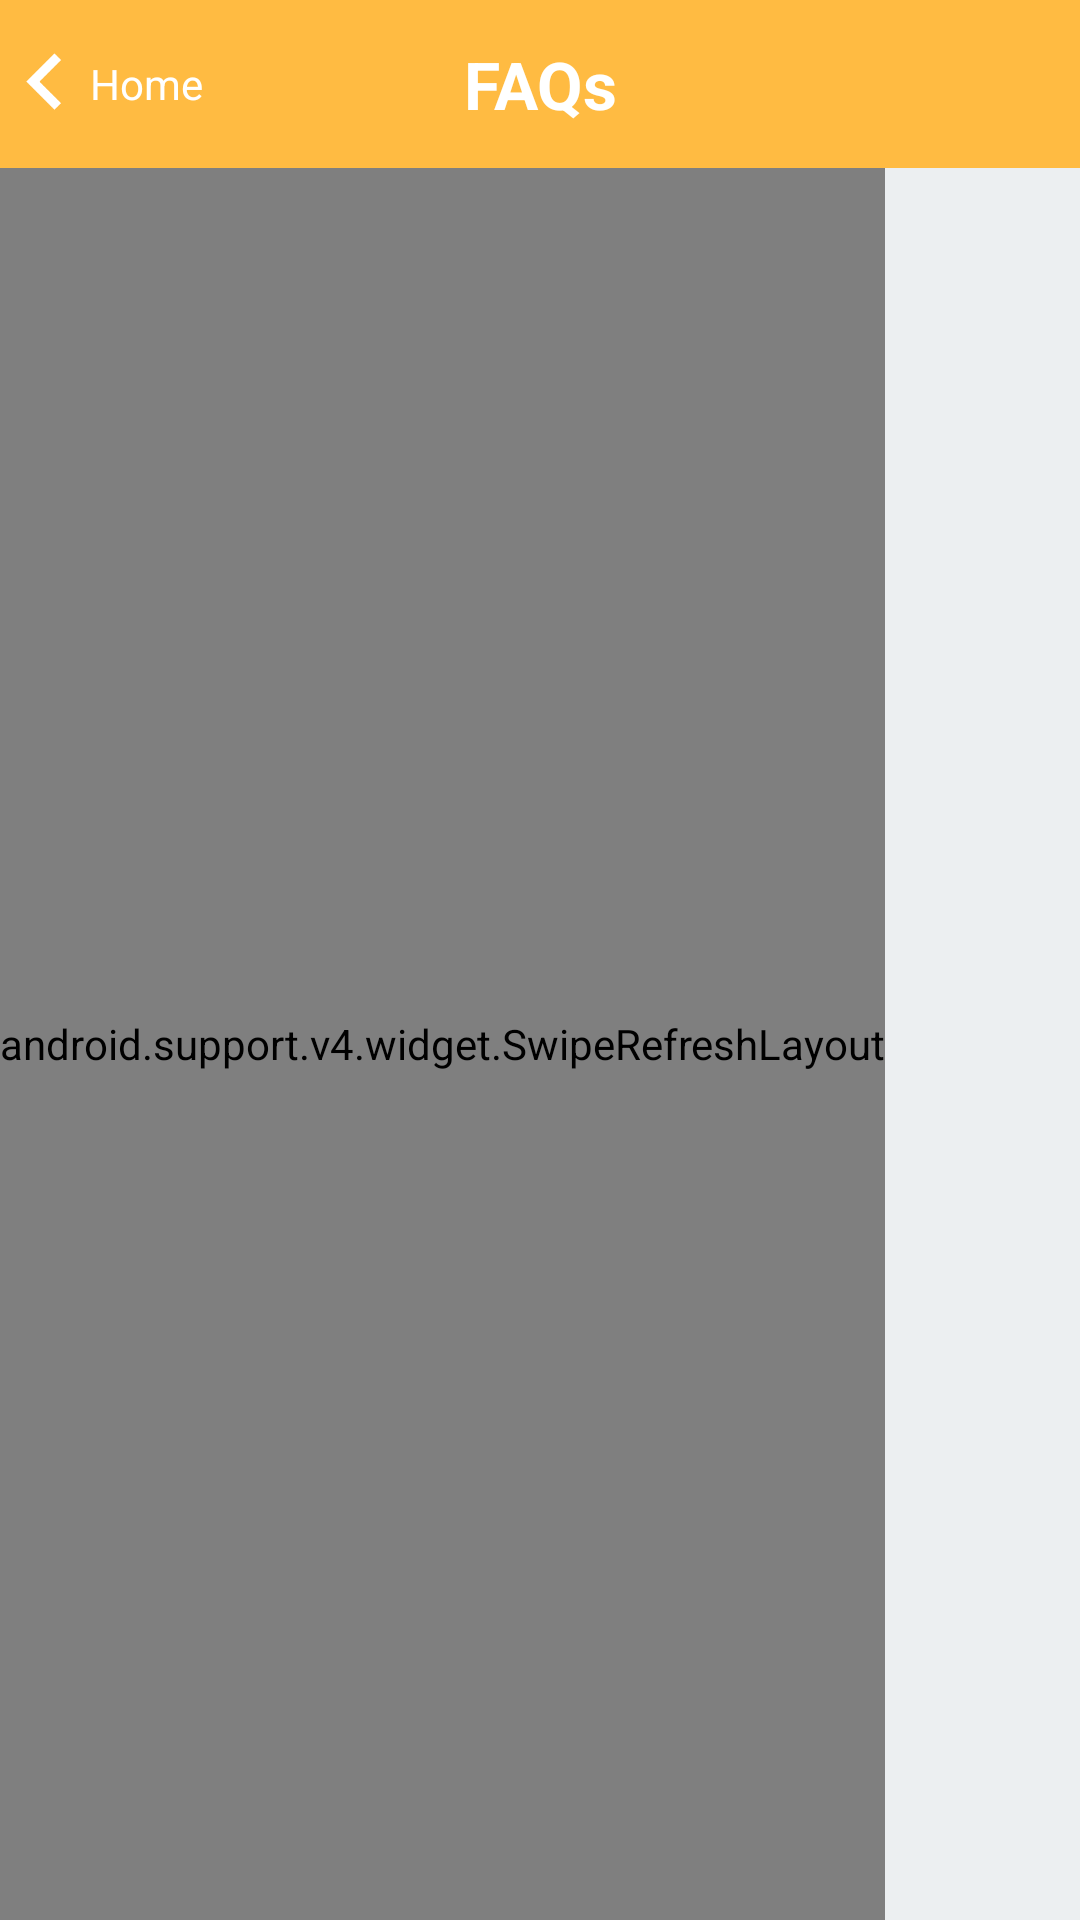

Icons on this 1080*1920 Android screen, each with the point to tap as (x,y):
back: (43,81)
